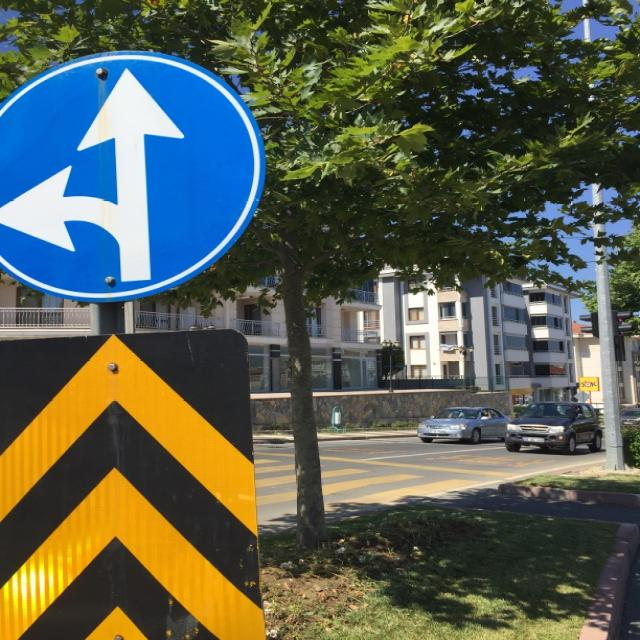ilerisol: (1, 50, 266, 303)
